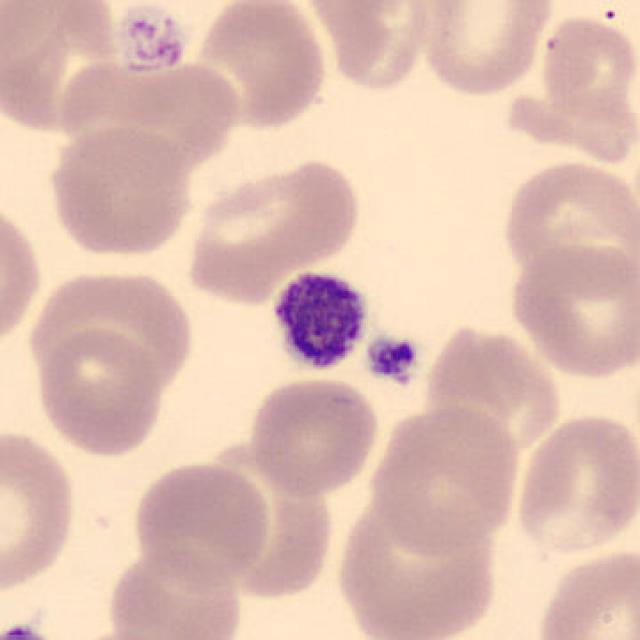Platelets: (263, 263, 373, 377), (108, 2, 192, 76), (363, 332, 423, 386), (0, 622, 57, 640)
RBC: (182, 152, 364, 305), (52, 48, 244, 184), (330, 495, 507, 640), (366, 399, 524, 557), (25, 262, 199, 398), (42, 118, 196, 261), (505, 236, 636, 383), (510, 409, 638, 559), (187, 0, 331, 132), (128, 457, 274, 587), (30, 324, 169, 458), (430, 324, 563, 461), (498, 155, 636, 286), (246, 372, 380, 499), (532, 7, 638, 166), (414, 0, 556, 99), (0, 423, 80, 598), (103, 545, 249, 640), (297, 0, 441, 93), (530, 543, 640, 640), (51, 0, 201, 71), (0, 194, 46, 354), (55, 627, 201, 640)
